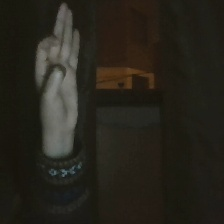F: (27, 3, 90, 139)
